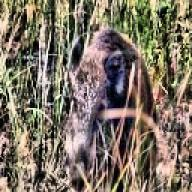boar: (57, 25, 159, 192)
